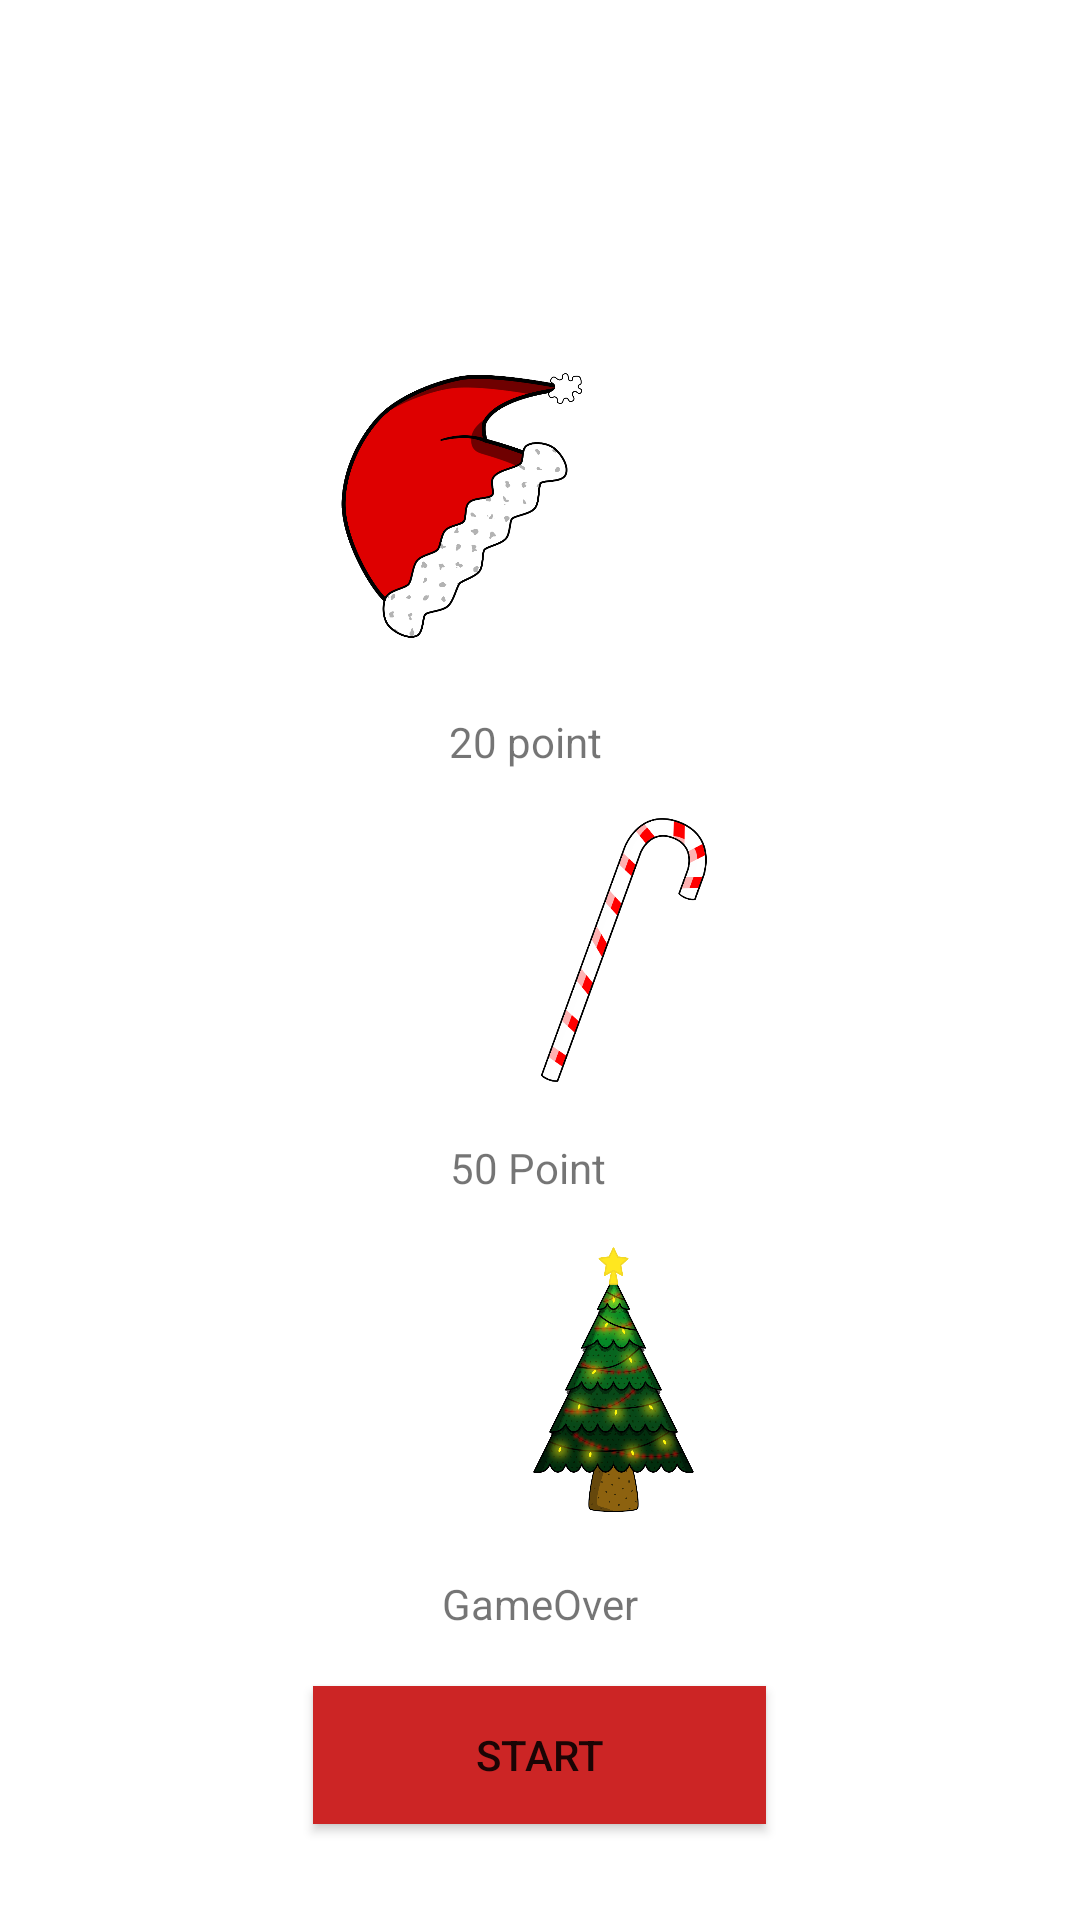

Icons on this 1080×1920 Android screen, each with its box as (x1, y1, x2, y2):
hat: (341, 373, 582, 638)
